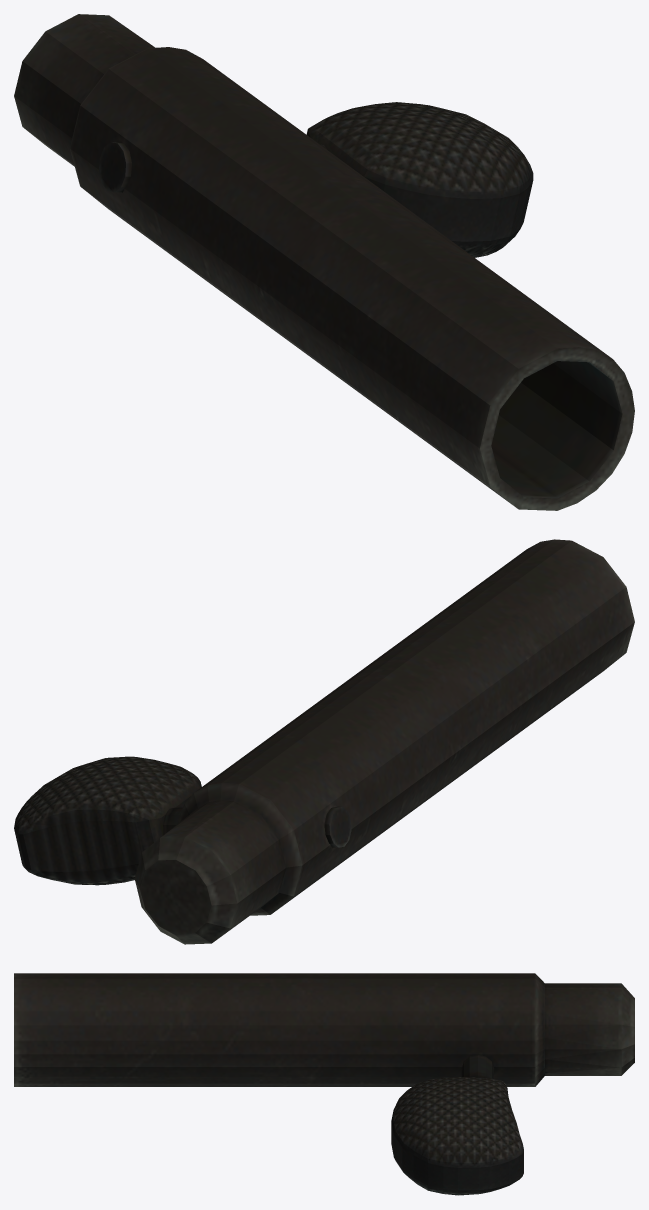
The picture shows the model from 3 angles, top to bottom: view 1: azimuth 30°, elevation 25°; view 2: azimuth 150°, elevation 25°; view 3: azimuth 270°, elevation 25°; orthographic projection. The views are drawn at different scales.
Visible parts, largest first — view 1: TW_5d2f2d5748f03572ec0c0139_PZ_Import; view 2: TW_5d2f2d5748f03572ec0c0139_PZ_Import; view 3: TW_5d2f2d5748f03572ec0c0139_PZ_Import.
Boxes of the visible parts, left/top/right/bottom form: TW_5d2f2d5748f03572ec0c0139_PZ_Import: left=14, top=14, right=634, bottom=510; TW_5d2f2d5748f03572ec0c0139_PZ_Import: left=14, top=539, right=634, bottom=944; TW_5d2f2d5748f03572ec0c0139_PZ_Import: left=14, top=973, right=634, bottom=1195.
Bounding box in the file's own units: 0.0225 × 0.048 × 0.0114.
1 material, 1 textured.
